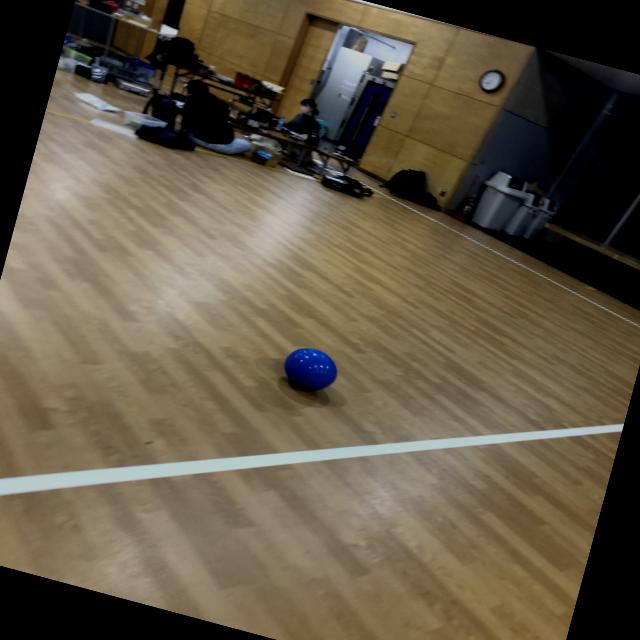blue_ball: (280, 342, 346, 402)
